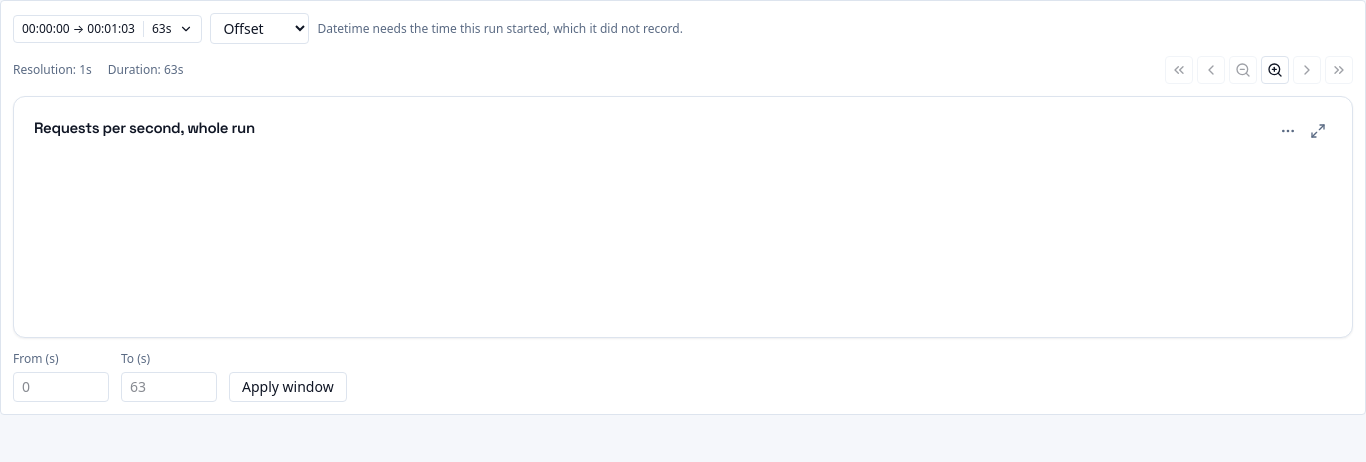
TimeBrush — an invalid range is refused, never widened › refuses a reversed range instead of resetting to the whole run
Step 1. Type "30" into the field with test id "window-from" → (61, 387), box [13,372,109,402]
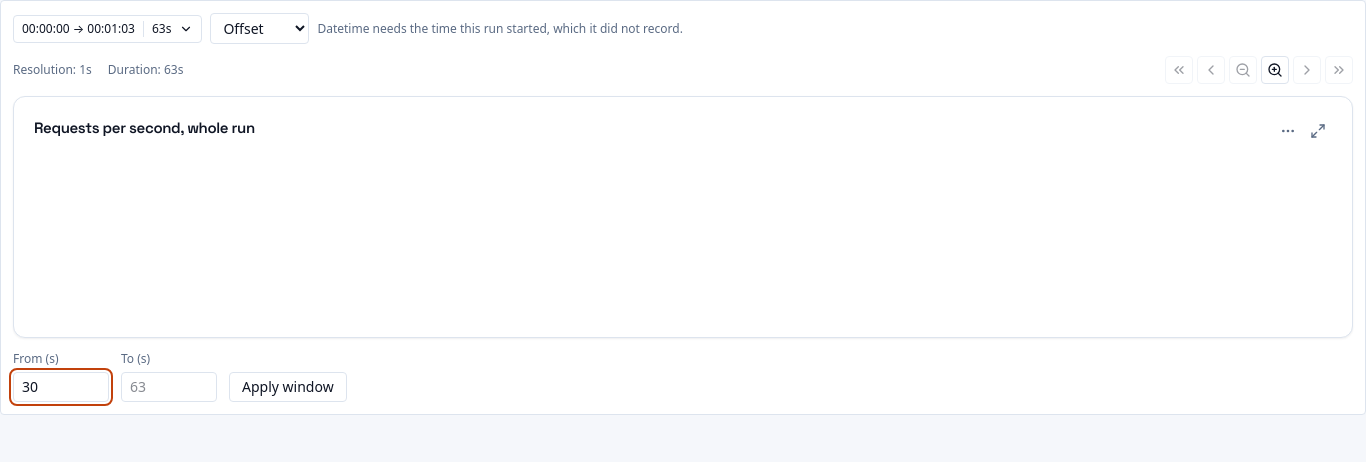
Step 2. Type "10" into the field with test id "window-to" → (169, 387), box [121,372,217,402]
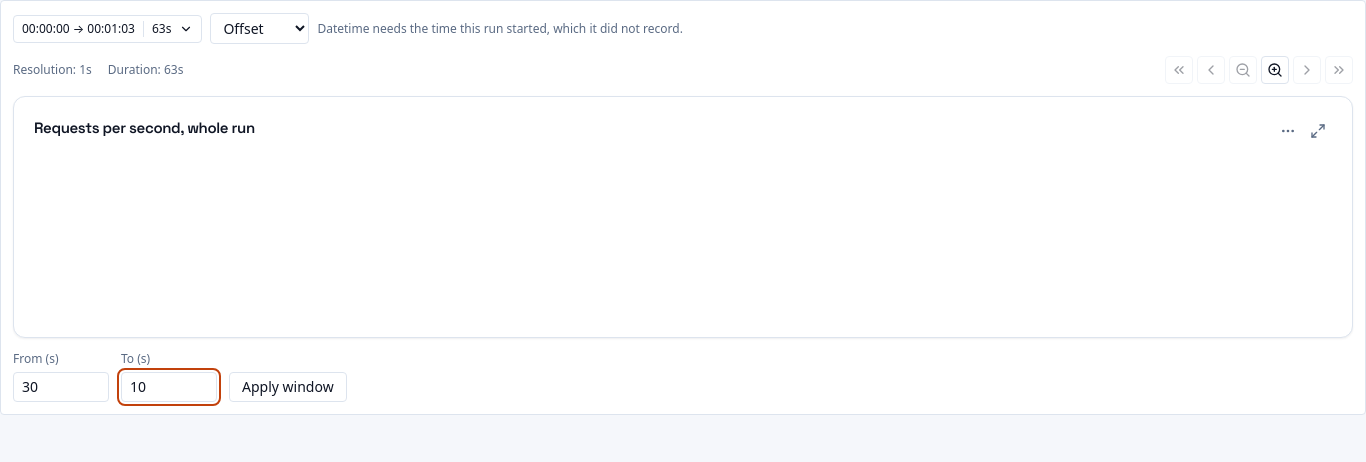
Step 3. Click the button with test id "window-apply" → click(288, 387), box [229,372,347,402]
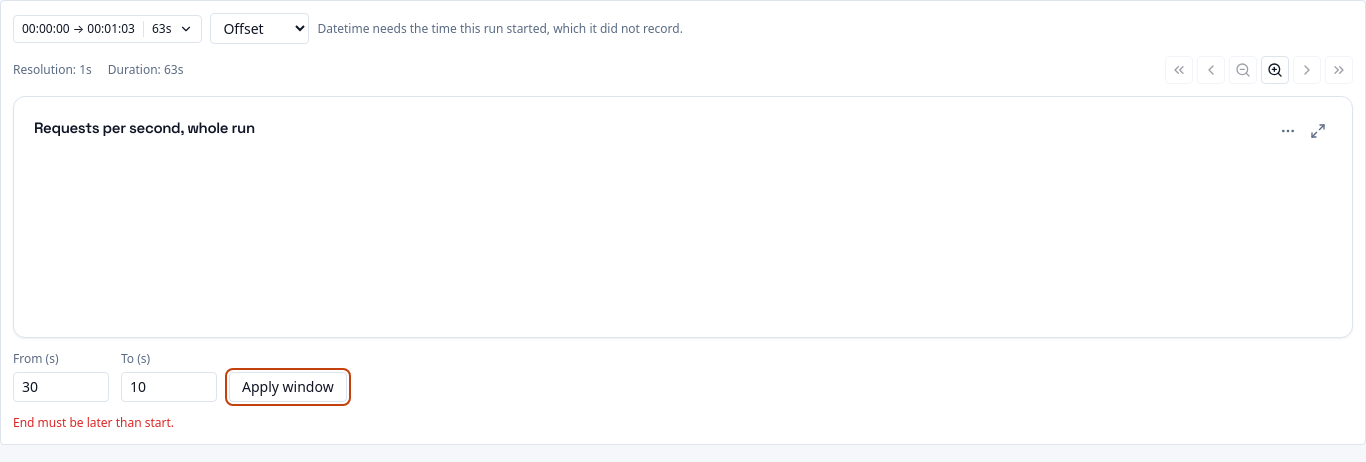
Check: the message "End must be later than start." is shown, box [13,414,174,431]
